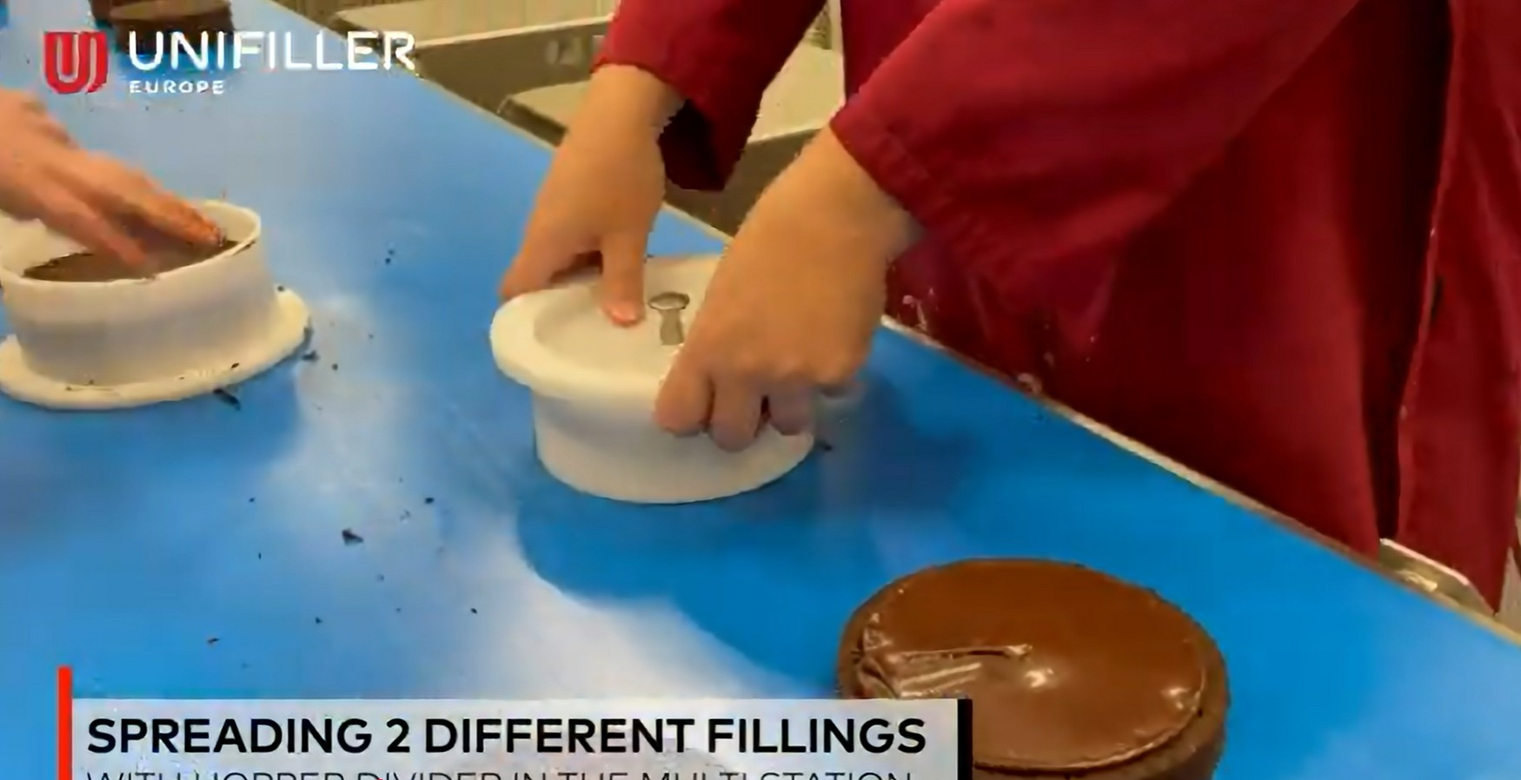Chocolate Coated: (846, 548, 1225, 780)
